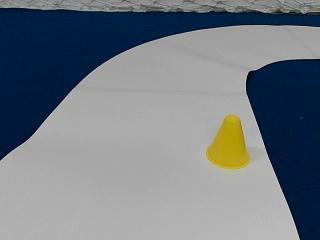cone: (207, 116, 251, 169)
